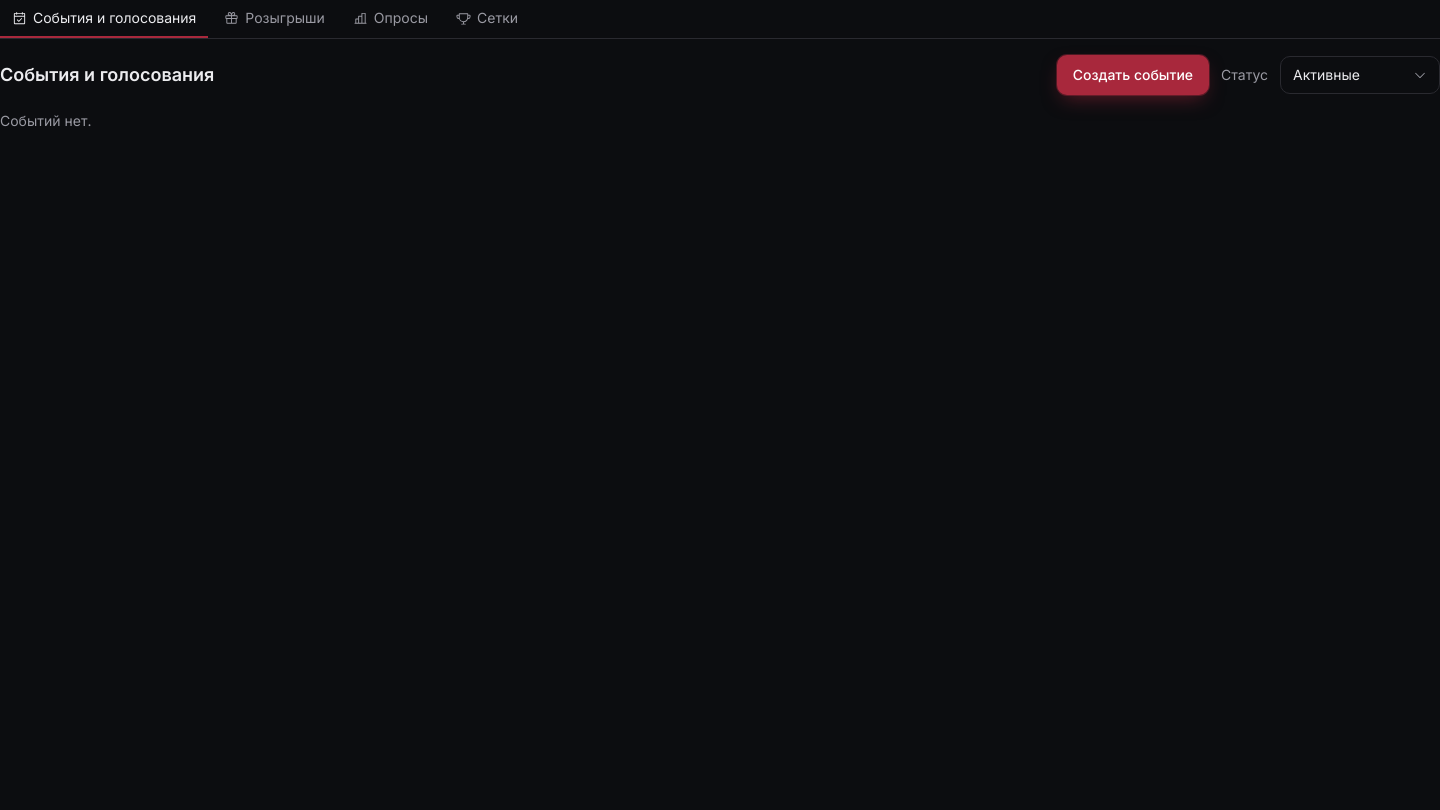
EventsPage create flow › preview hides tournament fields when the type is switched to poll
The width and height of the screenshot is (1440, 810).
Click the button "Создать событие".
click(1133, 75)  # box x1=1057 y1=55 x2=1209 y2=95
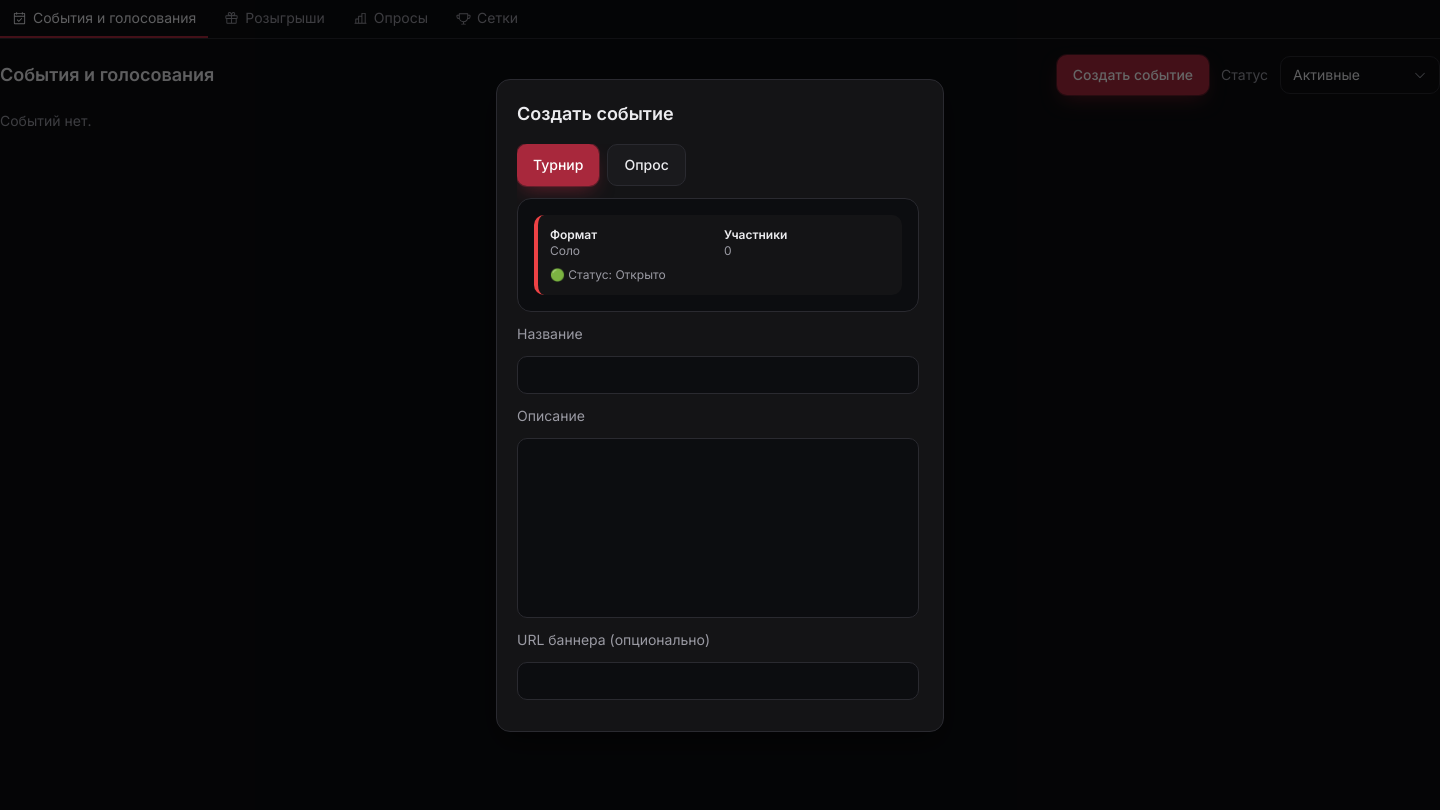
Check: the text "Участники" is shown, box x1=724 y1=226 x2=787 y2=242
Click the button "Опрос".
click(647, 164)  # box x1=607 y1=144 x2=686 y2=186
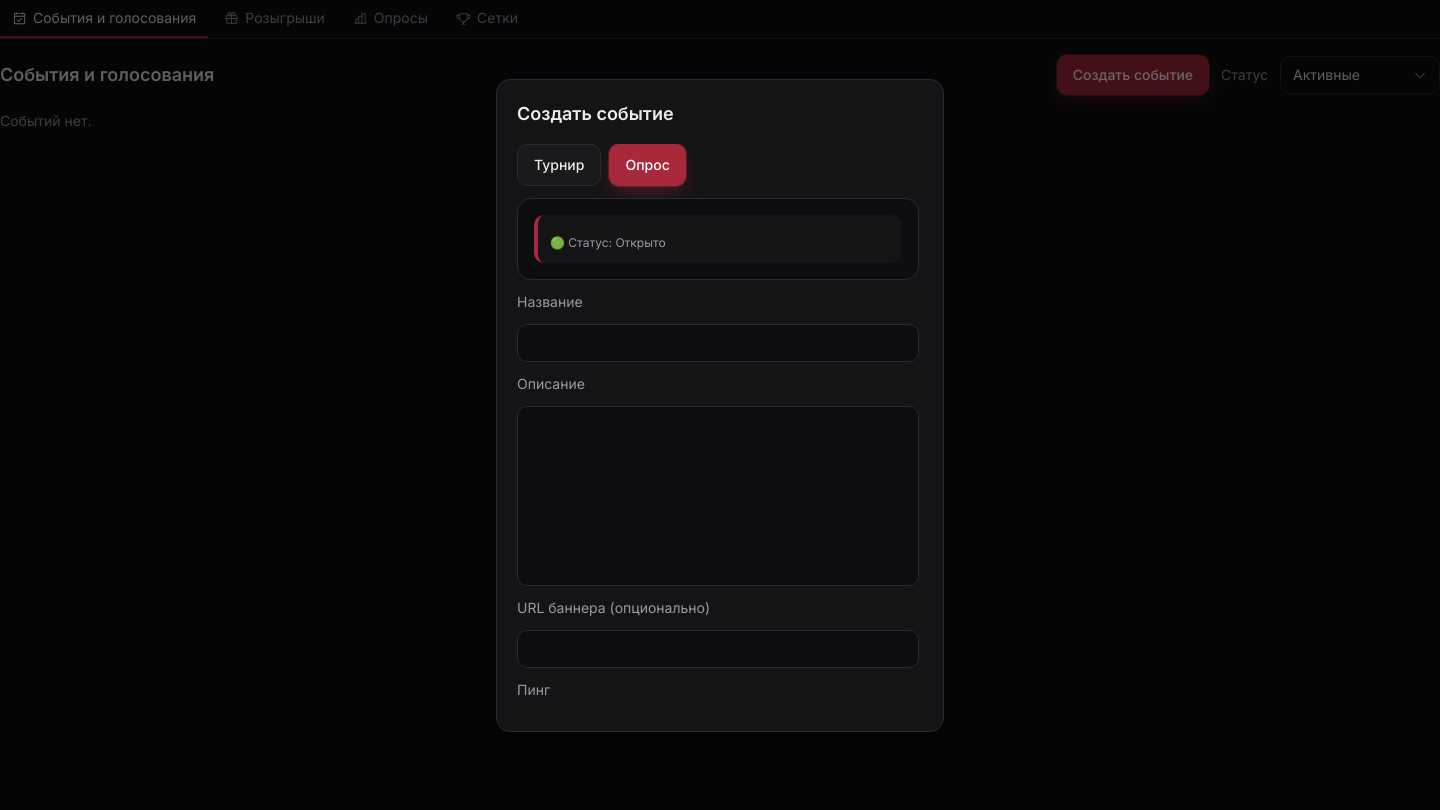
Check: the text "Участники" is gone
